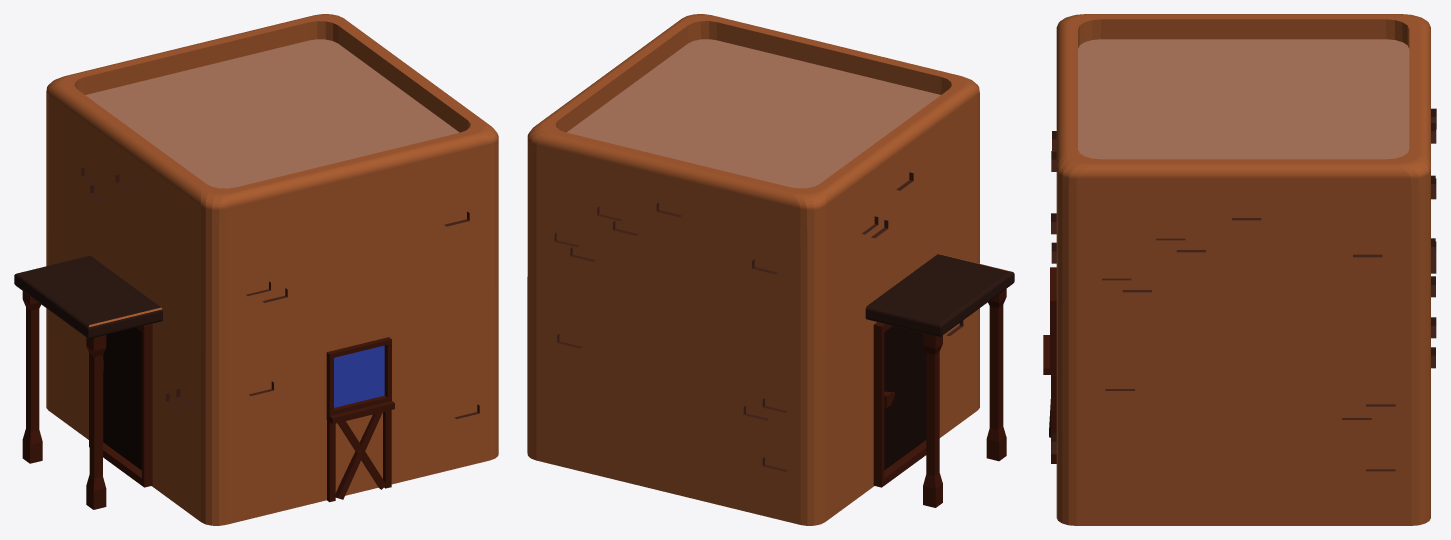
File: SmallHouse.fbx
The picture shows the model from 3 angles, left to right: view 1: azimuth 30°, elevation 25°; view 2: azimuth 150°, elevation 25°; view 3: azimuth 270°, elevation 25°; orthographic projection. The views are drawn at different scales.
Parts seen in each view (by area): view 1: House Small; view 2: House Small; view 3: House Small.
Part boxes in pixels (x1=…): House Small: x1=14, y1=14, x2=498, y2=525; House Small: x1=527, y1=14, x2=1014, y2=525; House Small: x1=1043, y1=14, x2=1436, y2=525.
Bounding box in the file's own units: 501 × 416 × 415.
